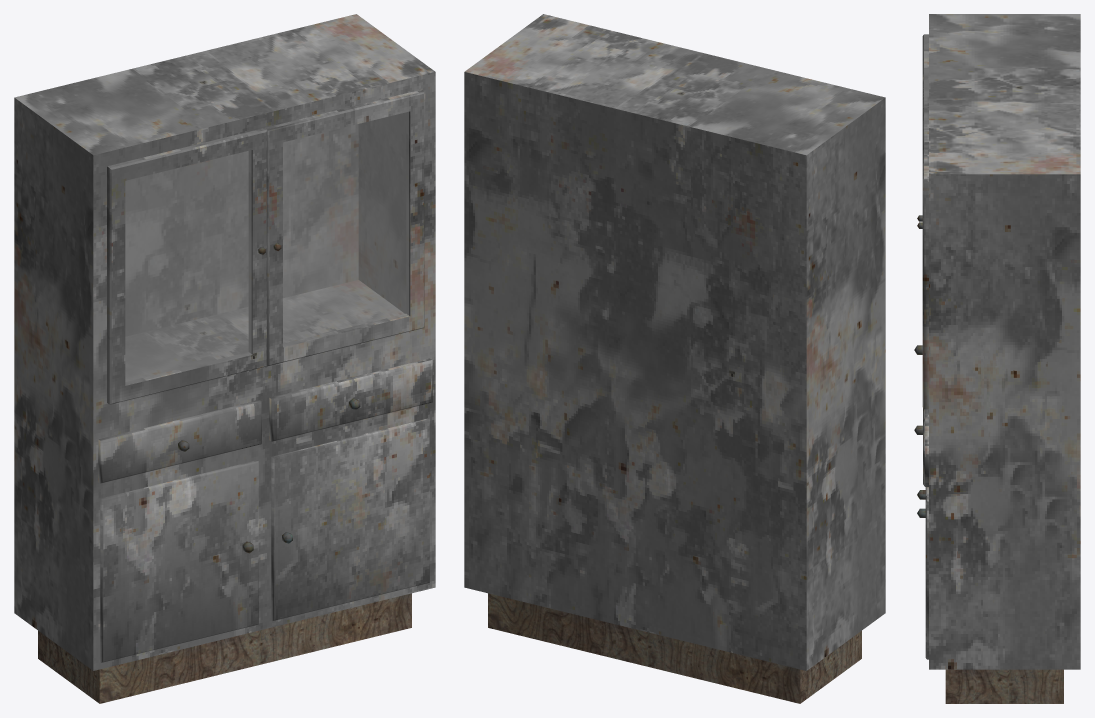
File: _LargeShelf_1.FBX
The picture shows the model from 3 angles, left to right: view 1: azimuth 30°, elevation 25°; view 2: azimuth 150°, elevation 25°; view 3: azimuth 270°, elevation 25°; orthographic projection. The views are drawn at different scales.
Parts seen in each view (by area): view 1: _LargeShelf_1_Base, _LargeShelf_1_D1_L, _LargeShelf_1_D1_R, _LargeShelf_1_D3_L, _LargeShelf_1_D3_R, _LargeShelf_1_D2_R, _LargeShelf_1_D2_L; view 2: _LargeShelf_1_Base; view 3: _LargeShelf_1_Base, _LargeShelf_1_D1_R, _LargeShelf_1_D3_R, _LargeShelf_1_D1_L, _LargeShelf_1_D2_R.
Part boxes in pixels (box(x1,y1,x2,y2)): _LargeShelf_1_Base: box(14, 14, 435, 703); _LargeShelf_1_D1_L: box(107, 128, 266, 404); _LargeShelf_1_D1_R: box(265, 89, 424, 366); _LargeShelf_1_D3_L: box(100, 460, 258, 662); _LargeShelf_1_D3_R: box(271, 418, 429, 620); _LargeShelf_1_D2_R: box(269, 358, 432, 441); _LargeShelf_1_D2_L: box(98, 400, 261, 483); _LargeShelf_1_Base: box(464, 14, 885, 703); _LargeShelf_1_Base: box(929, 14, 1080, 703); _LargeShelf_1_D1_R: box(917, 108, 928, 408); _LargeShelf_1_D3_R: box(917, 487, 928, 659); _LargeShelf_1_D1_L: box(917, 34, 928, 221); _LargeShelf_1_D2_R: box(914, 408, 928, 486).
Bounding box in the file's own units: 125 × 195 × 54.89.
Materials: 4 (3 with a texture image).
